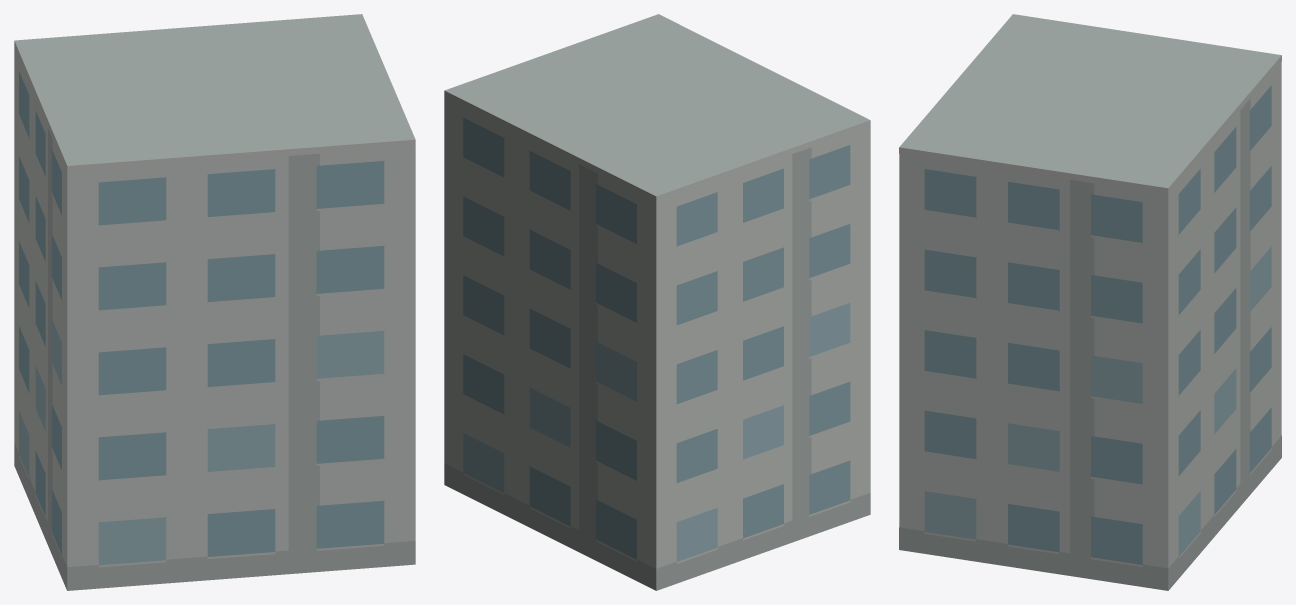
The model's file is residential-bfc3be79-d075-4461-8829-9eef7e40a9c7.glb.
The picture shows the model from 3 angles, left to right: view 1: azimuth 30°, elevation 25°; view 2: azimuth 150°, elevation 25°; view 3: azimuth 270°, elevation 25°; orthographic projection. The views are drawn at different scales.
Parts seen in each view (by area): view 1: residential-bfc3be79-d075-4461-8829-9eef7e40a9c7.tmp; view 2: residential-bfc3be79-d075-4461-8829-9eef7e40a9c7.tmp; view 3: residential-bfc3be79-d075-4461-8829-9eef7e40a9c7.tmp.
Boxes of the visible parts, x1=… form: residential-bfc3be79-d075-4461-8829-9eef7e40a9c7.tmp: x1=14, y1=14, x2=415, y2=590; residential-bfc3be79-d075-4461-8829-9eef7e40a9c7.tmp: x1=444, y1=14, x2=870, y2=590; residential-bfc3be79-d075-4461-8829-9eef7e40a9c7.tmp: x1=899, y1=14, x2=1281, y2=590.
Size of the model in its own units: 14.17 by 15.25 by 13.15.
